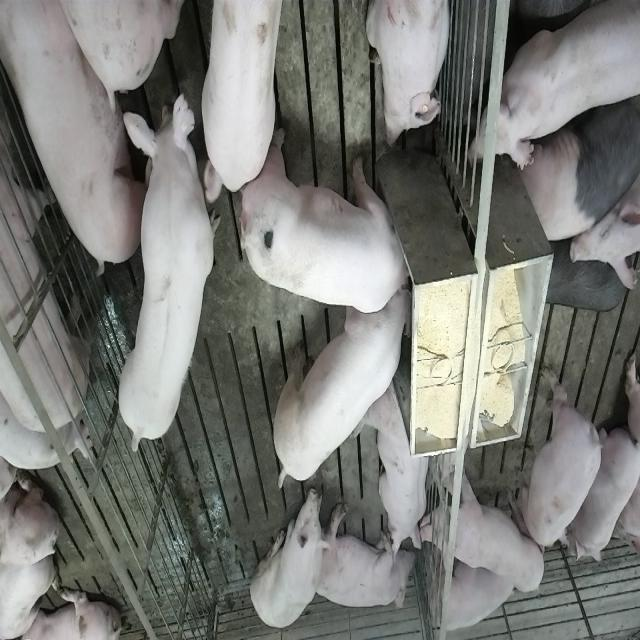Feeding: (244, 128, 419, 314), (268, 282, 411, 497)
Lateral_lying: (312, 500, 416, 612)
Sitting: (250, 483, 328, 631)
Standing: (0, 0, 96, 457), (115, 73, 220, 450), (478, 0, 638, 174), (518, 74, 638, 248), (202, 0, 288, 200), (420, 464, 545, 590), (522, 381, 606, 555), (539, 236, 631, 315)
Sternal_lying: (358, 376, 432, 558), (366, 0, 454, 151), (570, 418, 638, 566), (428, 548, 518, 634)
